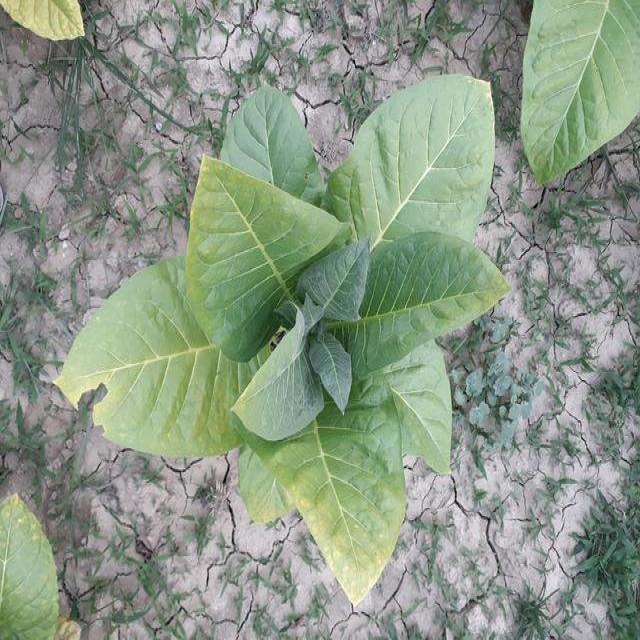crop: (58, 86, 510, 594), (522, 0, 640, 172), (0, 488, 76, 640), (5, 0, 90, 48)
